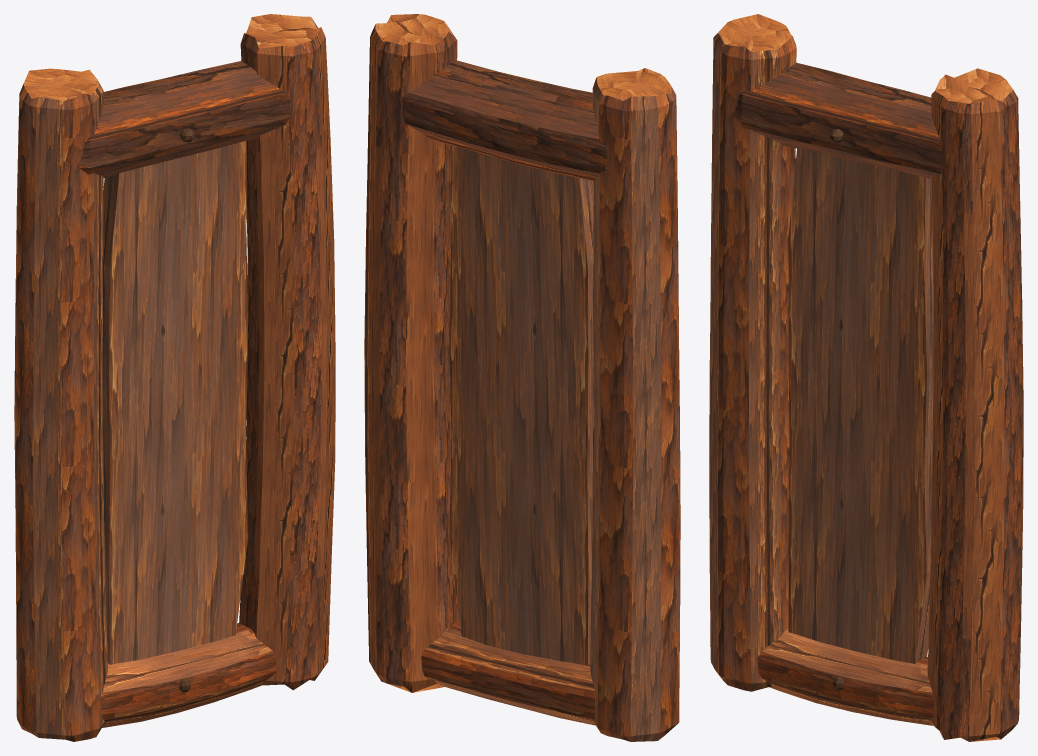
The model's file is wall_narrow__plank_root.glb.
3 renders of one model, left to right at view 1: azimuth 30°, elevation 25°; view 2: azimuth 150°, elevation 25°; view 3: azimuth 330°, elevation 25°, orthographic.
Visible parts, largest first — view 1: model; view 2: model; view 3: model.
Boxes of the visible parts, box(x1,y1,x2,y2) form: model: box(14, 14, 335, 741); model: box(364, 14, 680, 741); model: box(709, 14, 1023, 741).
Size of the model in its own units: 0.9768 by 2 by 0.263.
13 materials, 13 textured.
